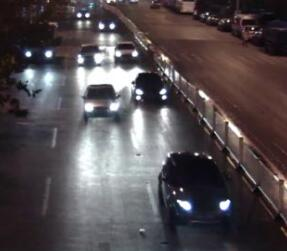car: (157, 149, 234, 233), (78, 82, 122, 122), (130, 69, 172, 105), (21, 37, 57, 62), (75, 41, 103, 66), (112, 40, 139, 63), (232, 12, 253, 34), (95, 13, 117, 31), (242, 21, 260, 42), (74, 5, 92, 19)
